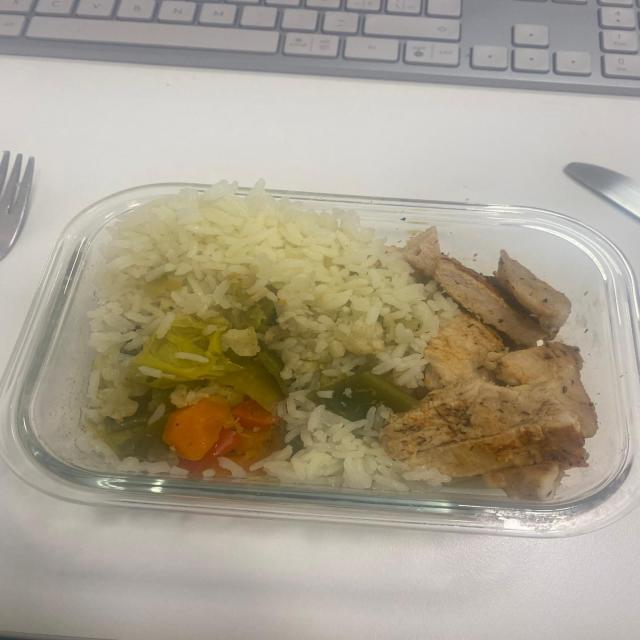fork: (0, 151, 34, 260)
knife: (563, 162, 639, 222)
plate: (0, 184, 639, 537)
rice: (86, 184, 457, 490)
stewed veal: (381, 230, 597, 498)
